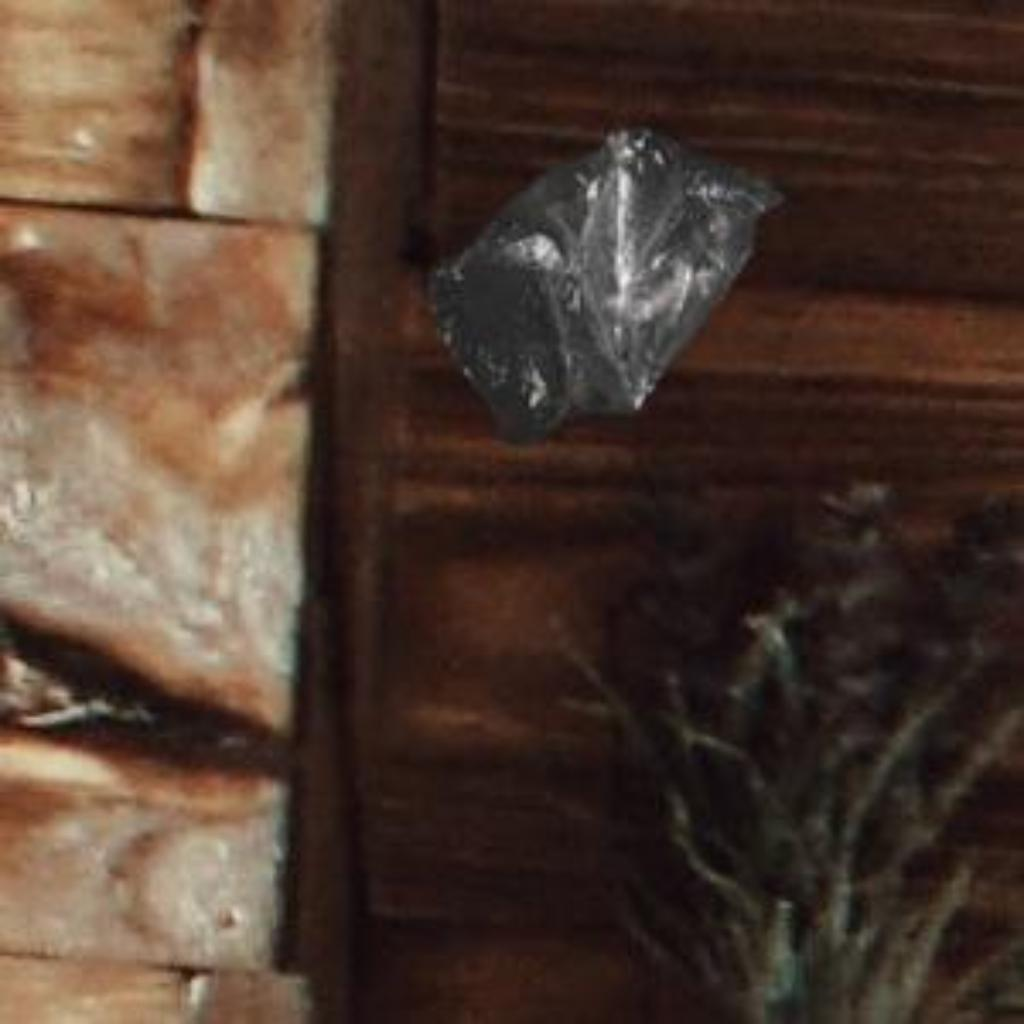garbage: (427, 106, 833, 468)
